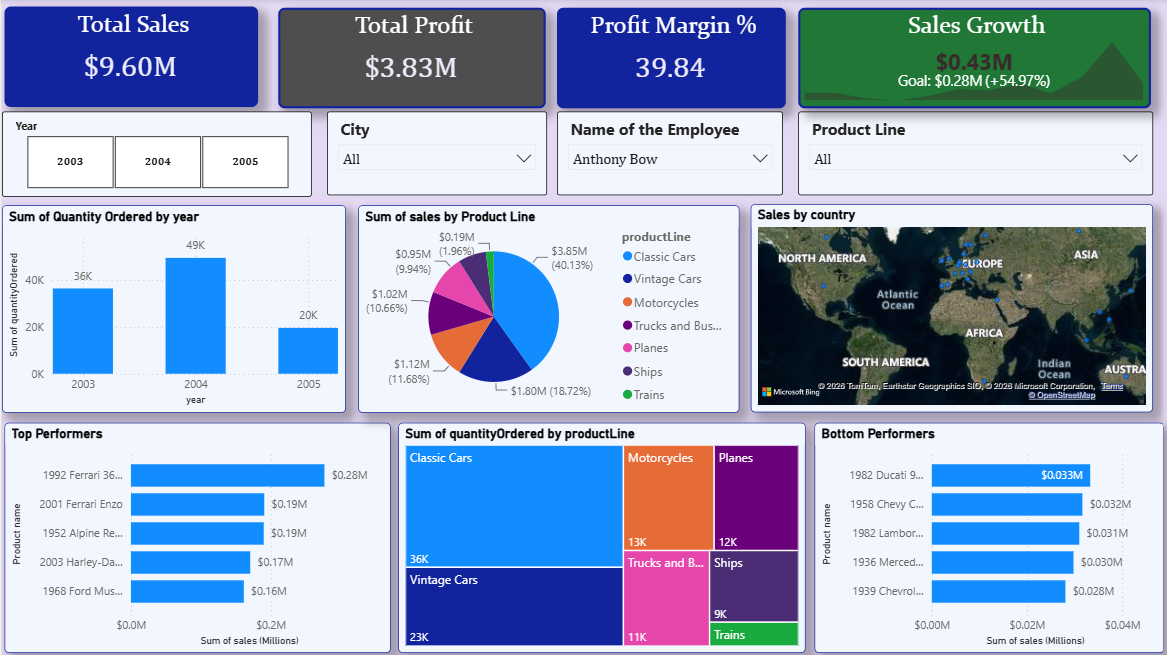

Layout of this report page (visuals, bound fields, positions):
{"tool":"powerbi","page":{"name":"Page 1","canvas":[1280,720],"ordinal":0},"visuals":[{"type":"columnChart","title":"Sum of Quantity Ordered by year","fields":{"Y":["Sum(order dails.quantityOrdered)"],"Category":["orders.year"]},"box":[0,226.4,377.4,227.8],"z":0},{"type":"barChart","title":"Top Performers","fields":{"Category":["products.productName"],"Y":["Sum(order dails.sales)"]},"box":[2.7,465.2,424,253],"z":1000},{"type":"pieChart","title":"Sum of sales by Product Line","fields":{"Category":["products.productLine"],"Y":["Sum(order dails.sales)"]},"box":[391.1,226.4,418.5,227.8],"z":2000},{"type":"cardVisual","title":"Total Profit","fields":{"Data":["order dails.tprofit"]},"box":[303.3,9.6,293.7,110],"z":3000},{"type":"cardVisual","title":"Total Sales","fields":{"Data":["Sum(order dails.sales)"]},"box":[2.7,8.2,278.6,110],"z":4000},{"type":"cardVisual","title":"Profit Margin %","fields":{"Data":["order dails.profit_margin%"]},"box":[609.3,9.7,250.9,110],"z":5000},{"type":"map","title":"Sales by country","fields":{"Category":["customers.country"]},"box":[822,225,441.9,229.2],"z":7000},{"type":"treemap","fields":{"Group":["productlines.productLine"],"Values":["Sum(order dails.quantityOrdered)"]},"box":[435,465.2,447.3,253],"z":8000},{"type":"barChart","title":"Bottom Performers","fields":{"Category":["products.productName"],"Y":["Sum(order dails.sales)"]},"box":[891.9,465.2,384.2,253],"z":9000},{"type":"slicer","title":"Year","fields":{"Values":["orders.year"]},"box":[0,123.5,340.3,93.3],"z":10000},{"type":"slicer","title":"City","fields":{"Values":["customers.city"]},"box":[356.8,123.5,241.5,91.9],"z":11000},{"type":"slicer","title":"Name of the employee","fields":{"Values":["employees.name"]},"box":[609.3,123.5,248.4,91.9],"z":12000},{"type":"slicer","title":"Product name","fields":{"Values":["productlines.productLine"]},"box":[874.1,123.5,389.7,91.9],"z":13000},{"type":"kpi","title":"Sales Growth","fields":{"Goal":["orders.SALES2003"],"Indicator":["orders.sales2004"],"TrendLine":["orders.month_name"]},"box":[873.5,9.7,387.3,110],"z":14000}]}

Visuals, with their boxes in screenshot pixels (x1, y1, x2, y2), scaled from the page's 1280x720 canvas onto the 1167x655 screenshot:
"Sum of Quantity Ordered by year" columnChart: 0:206:344:413
"Top Performers" barChart: 2:423:389:653
"Sum of sales by Product Line" pieChart: 357:206:738:413
"Total Profit" cardVisual: 277:9:544:109
"Total Sales" cardVisual: 2:7:256:108
"Profit Margin %" cardVisual: 556:9:784:109
"Sales by country" map: 749:205:1152:413
treemap - productlines.productLine x Sum(order dails.quantityOrdered): 397:423:804:653
"Bottom Performers" barChart: 813:423:1163:653
"Year" slicer: 0:112:310:197
"City" slicer: 325:112:545:196
"Name of the employee" slicer: 556:112:782:196
"Product name" slicer: 797:112:1152:196
"Sales Growth" kpi: 796:9:1149:109
